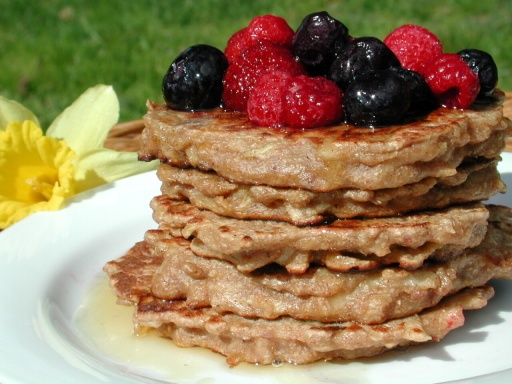background: (82, 7, 409, 221)
